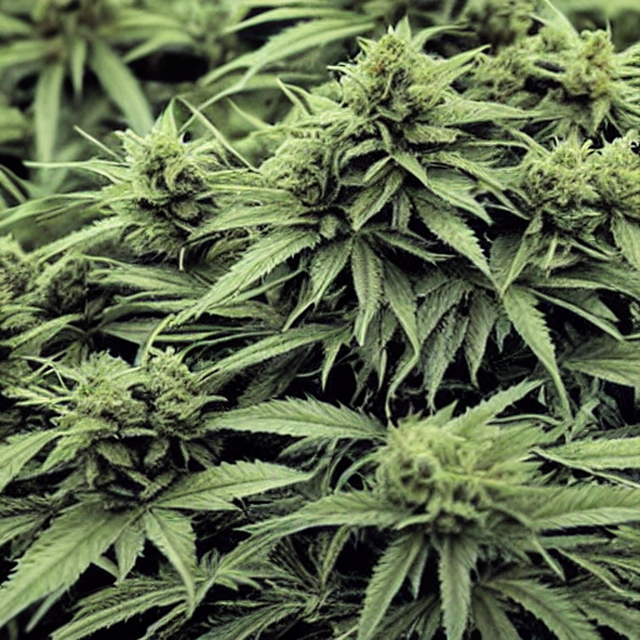Marijuana Plant: (220, 31, 639, 639), (414, 168, 639, 639)
